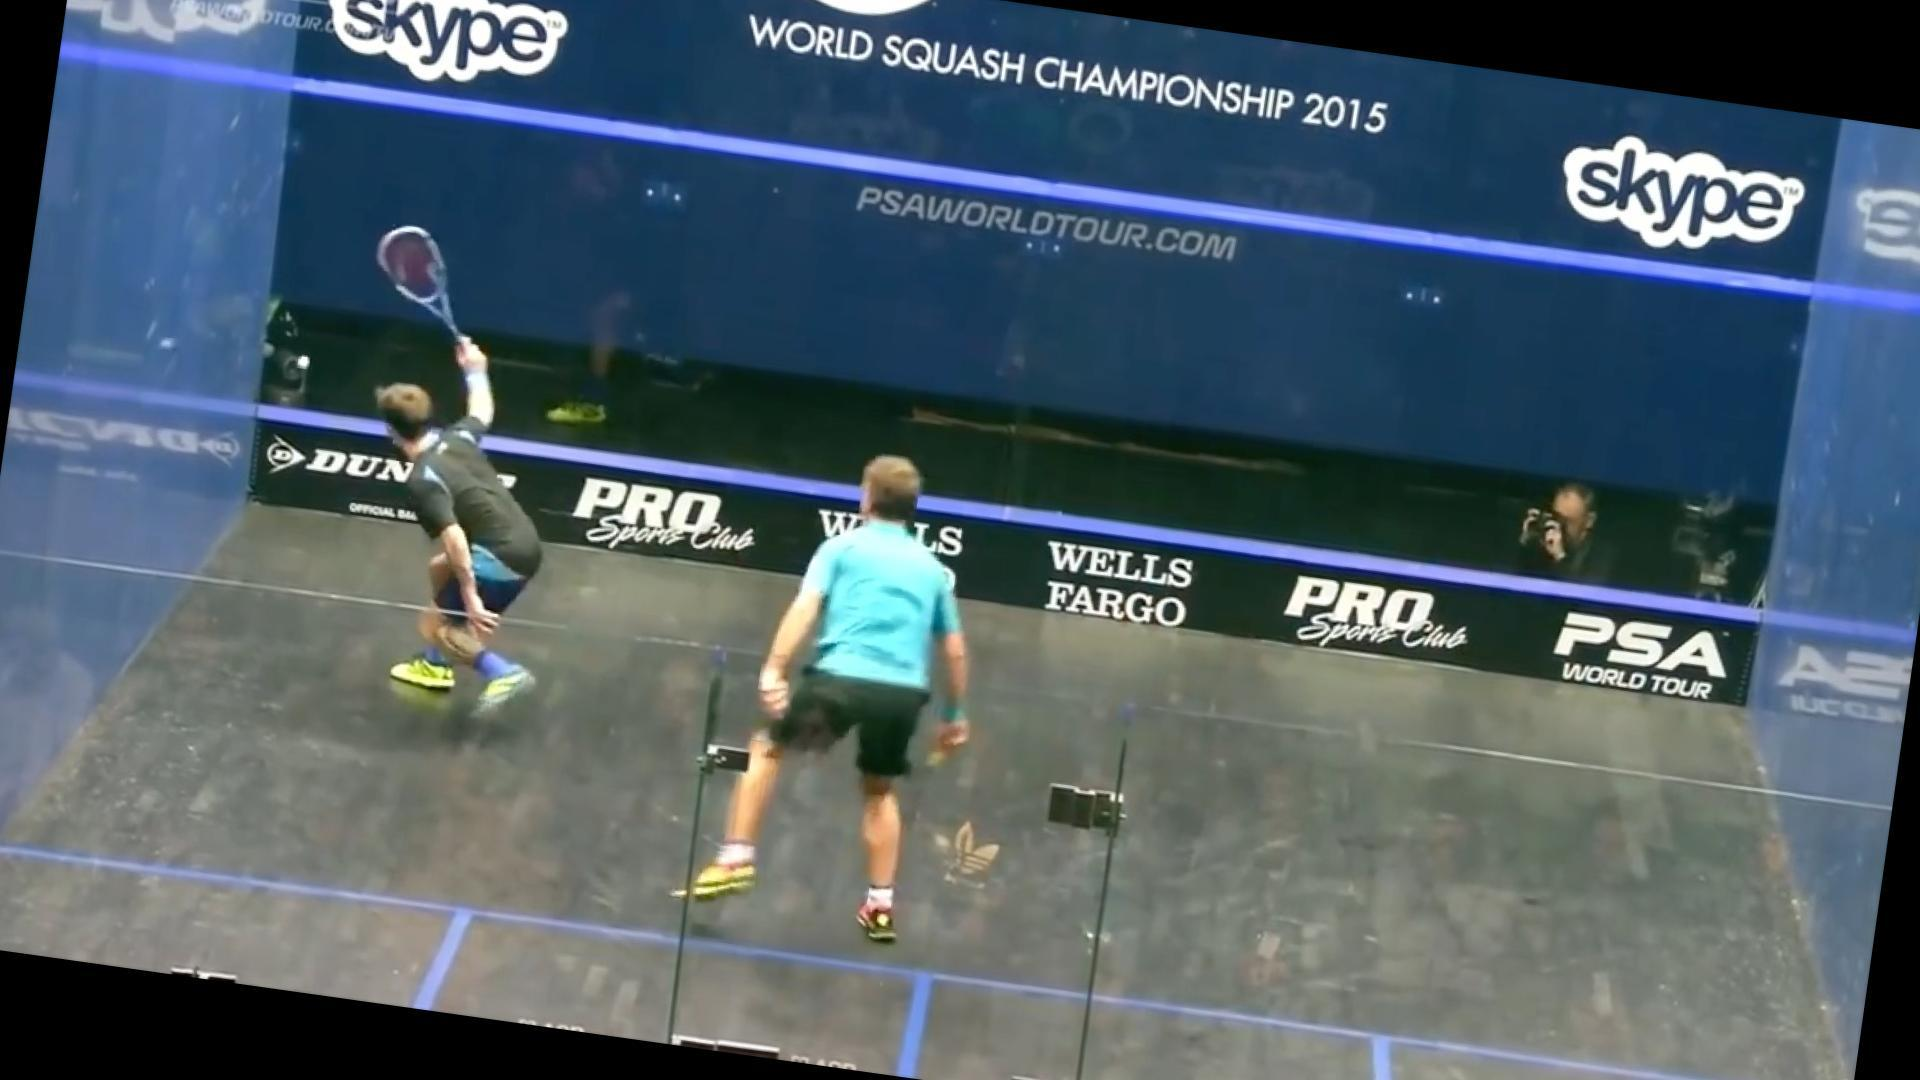Squash-Ball: (277, 336, 336, 393)
